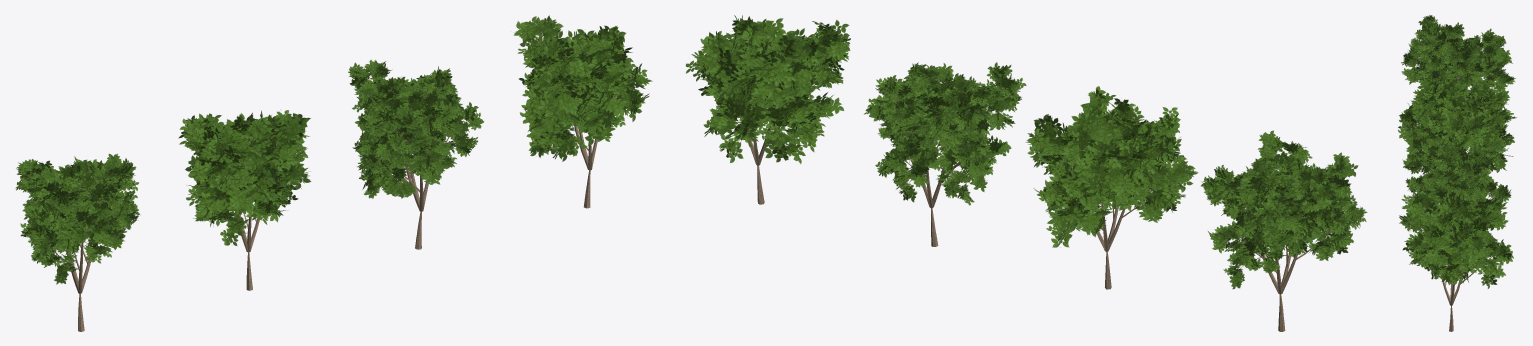
Rendered from tree_elm.glb.
3 views of the same model, side by side, from view 1: azimuth 30°, elevation 25°; view 2: azimuth 150°, elevation 25°; view 3: azimuth 270°, elevation 25° (orthographic). The views are drawn at different scales.
Visible parts, largest first — view 1: v1_lo_leaf, v1_hi_leaf, v0_lo_leaf, v0_hi_leaf, v0_hi_bark, v1_hi_bark, v1_lo_bark, v0_lo_bark; view 2: v0_lo_leaf, v1_lo_leaf, v0_hi_leaf, v1_hi_leaf, v0_hi_bark, v0_lo_bark, v1_hi_bark; view 3: v1_lo_leaf, v0_lo_leaf, v0_hi_leaf, v1_hi_leaf, v1_lo_bark.
Part boxes in pixels (left/top/right/bottom): v1_lo_leaf: left=514, top=15, right=652, bottom=161; v1_hi_leaf: left=348, top=60, right=484, bottom=198; v0_lo_leaf: left=178, top=110, right=311, bottom=245; v0_hi_leaf: left=15, top=153, right=140, bottom=284; v0_hi_bark: left=51, top=176, right=118, bottom=331; v1_hi_bark: left=365, top=78, right=465, bottom=249; v1_lo_bark: left=537, top=36, right=618, bottom=208; v0_lo_bark: left=223, top=136, right=276, bottom=290; v0_lo_leaf: left=1025, top=86, right=1198, bottom=247; v1_lo_leaf: left=685, top=15, right=850, bottom=163; v0_hi_leaf: left=1201, top=130, right=1367, bottom=289; v1_hi_leaf: left=864, top=62, right=1026, bottom=205; v0_hi_bark: left=1229, top=154, right=1340, bottom=331; v0_lo_bark: left=1061, top=112, right=1153, bottom=289; v1_hi_bark: left=881, top=81, right=1004, bottom=246; v1_lo_leaf: left=1399, top=190, right=1513, bottom=288; v0_lo_leaf: left=1398, top=74, right=1516, bottom=172; v0_hi_leaf: left=1401, top=15, right=1515, bottom=109; v1_hi_leaf: left=1402, top=133, right=1511, bottom=216; v1_lo_bark: left=1424, top=249, right=1492, bottom=331.
Bounding box in the file's own units: 74.98 × 20.23 × 17.21.
Materials: 2 (2 with a texture image).
